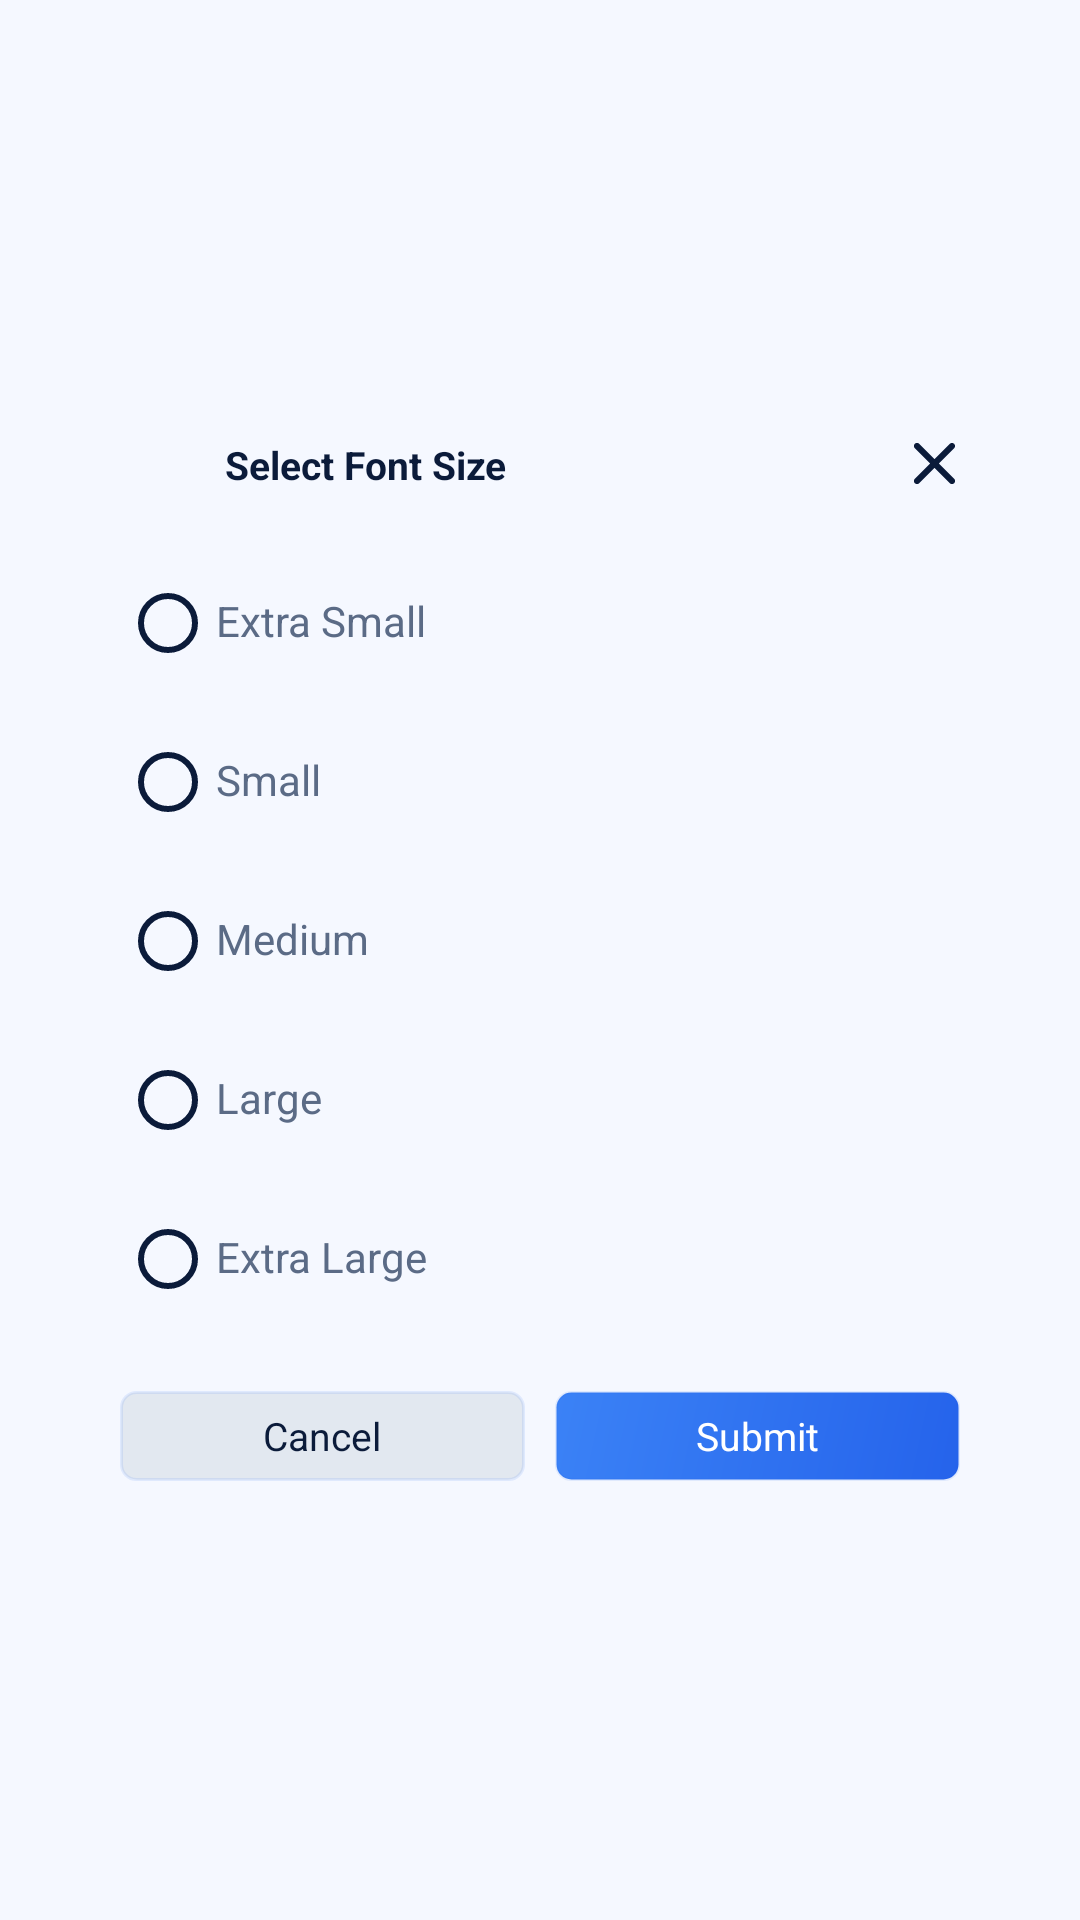

Where icons sit on this 1080px×1920px app screen, as (left=x1, top=y1, right=x2, bottom=y2):
close: (left=914, top=443, right=955, bottom=484)
